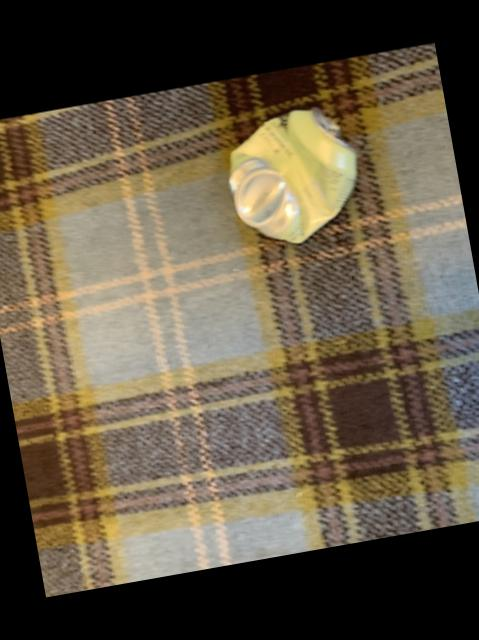metal: (228, 107, 355, 241)
